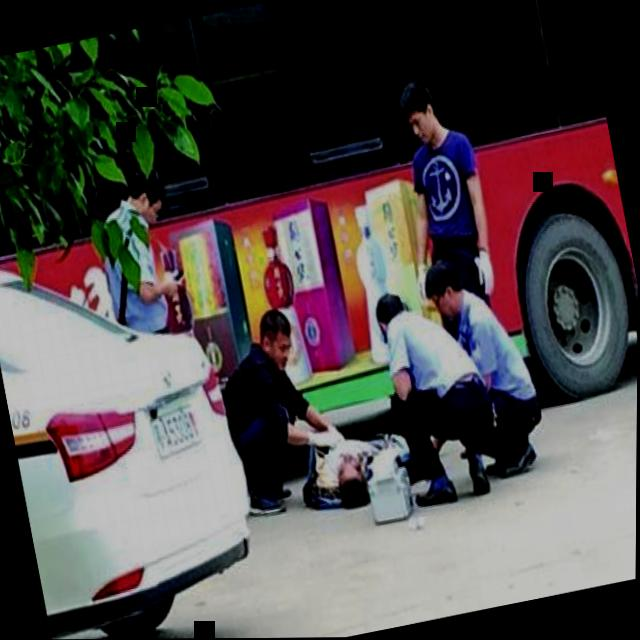Fall-Detected: (280, 401, 429, 529)
